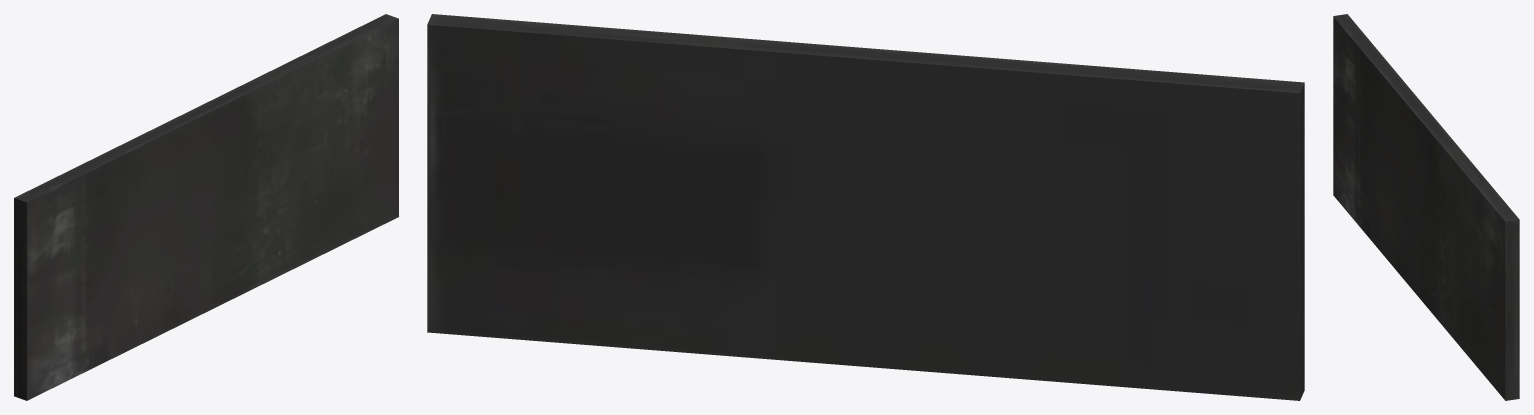
The model's file is backrest__backrest_frame.glb.
3 views of the same model, side by side, from view 1: azimuth 30°, elevation 25°; view 2: azimuth 150°, elevation 25°; view 3: azimuth 270°, elevation 25° (orthographic). The views are drawn at different scales.
Parts seen in each view (by area): view 1: world; view 2: world; view 3: world.
Part boxes in pixels (left/top/right/bottom): world: left=14, top=14, right=398, bottom=400; world: left=427, top=14, right=1304, bottom=400; world: left=1333, top=14, right=1519, bottom=400.
Bounding box in the file's own units: 0.6477 × 0.26 × 0.2456.
Materials: 1 (1 with a texture image).
